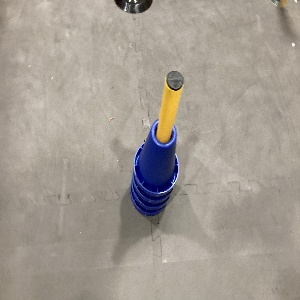Blue_4: (130, 117, 178, 215)
